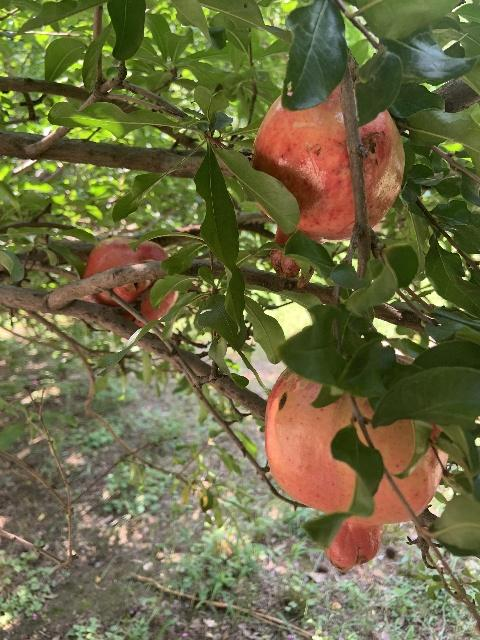ripe: (264, 353, 448, 571), (251, 86, 406, 287), (82, 239, 177, 327)
